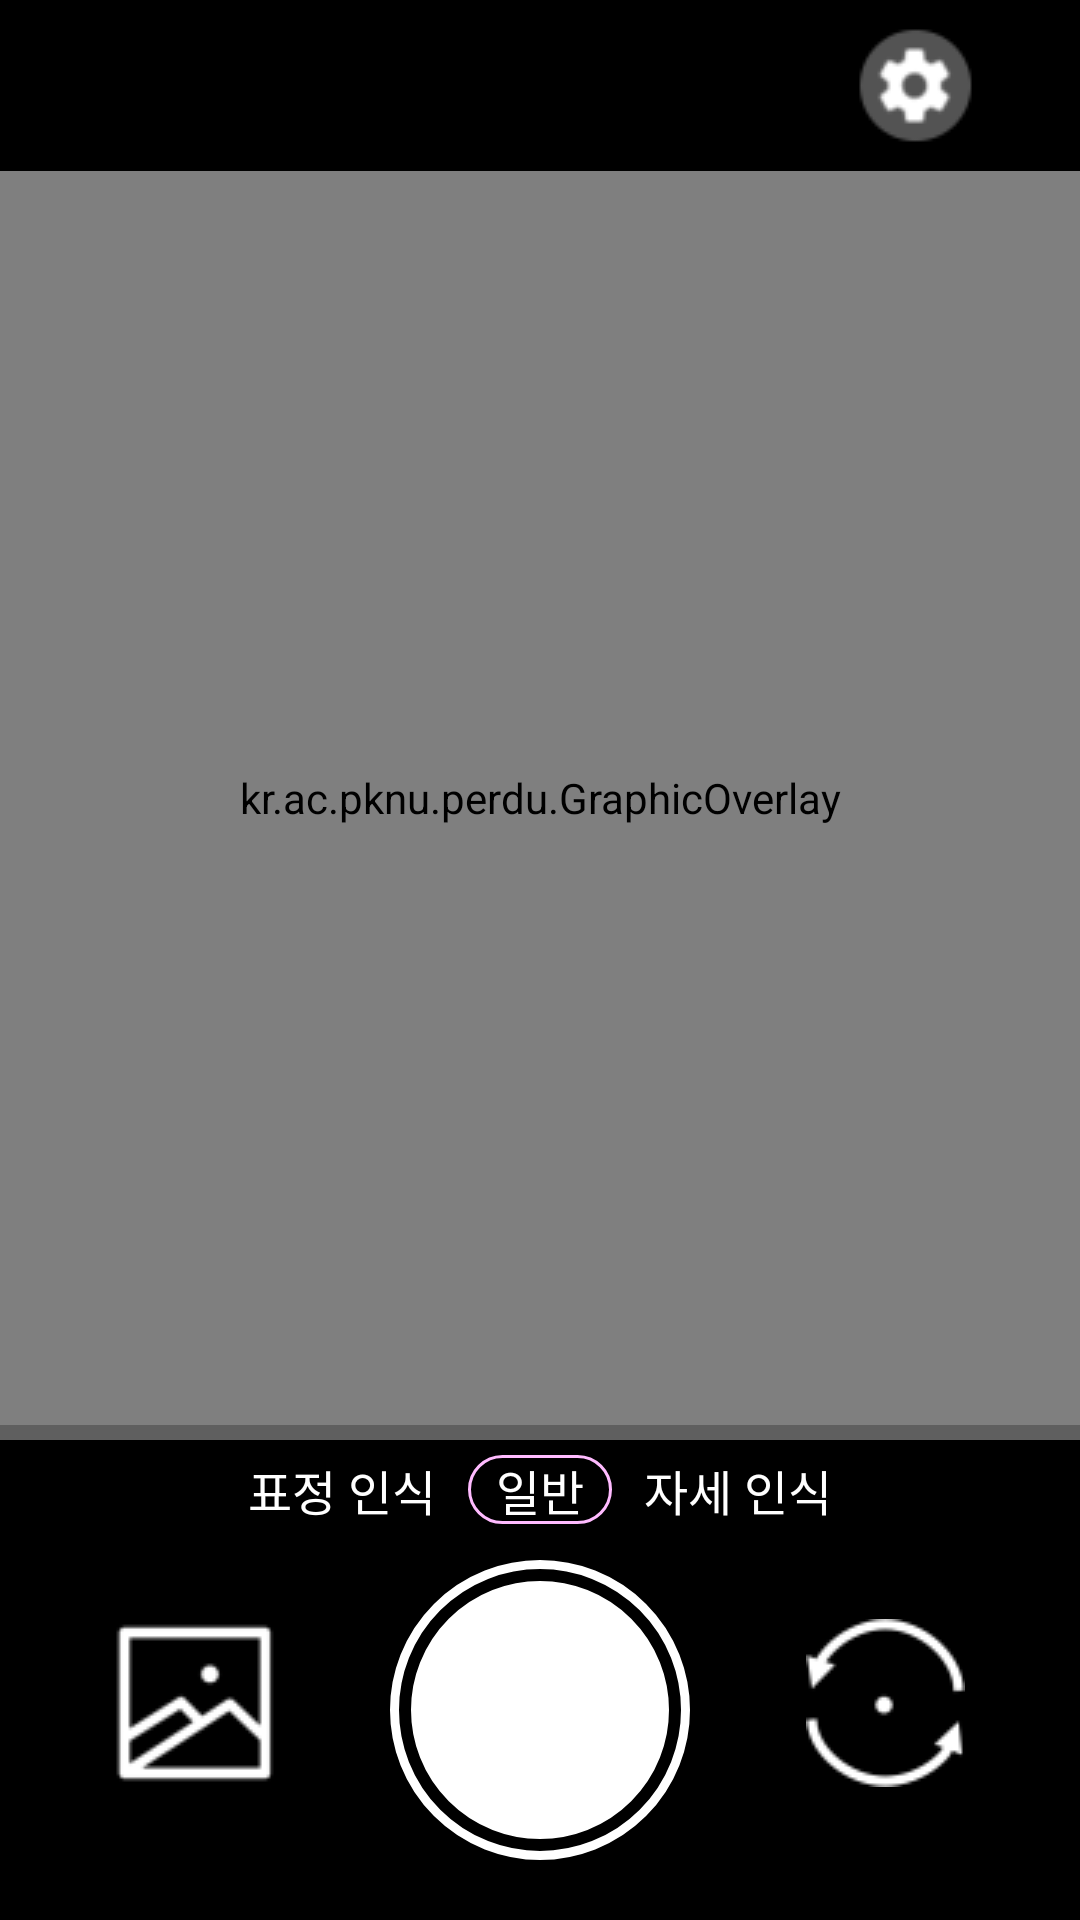

Icon click points for this 1080×1920 phone screenshot, format [x,y]:
capture: [540,1710]
change facing: [885,1703]
gallery: [194,1703]
setting: [915,85]
